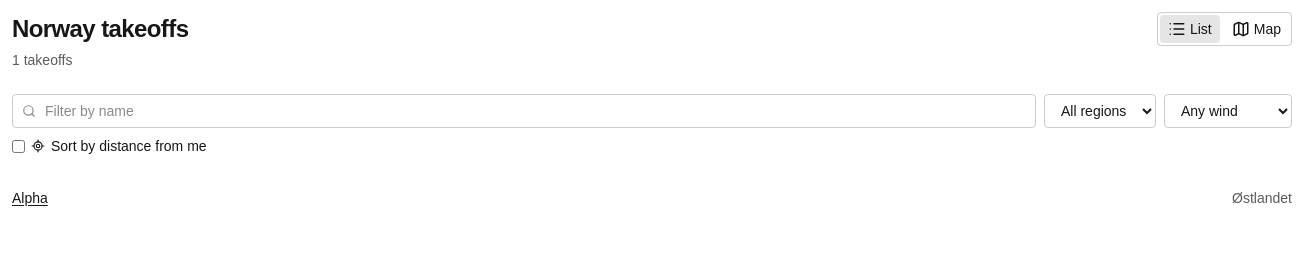
Scenario: TakeoffDirectory — input-driven filtering › blames the actual cause, not an untyped query, when a selected region has zero takeoffs
The image size is (1304, 267).
Check: the link "Alpha" is shown, box [12,188,48,208]
Select "Vestlandet" in the dropdown named "region": point(1100, 111) [1044,94,1156,128]
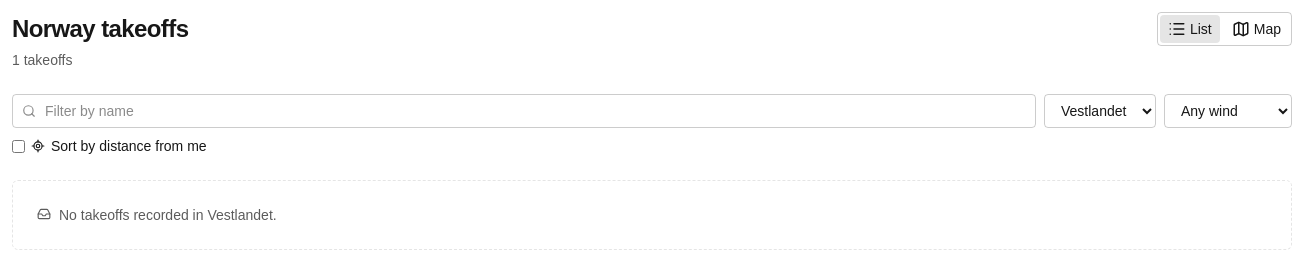
Check: the text "No takeoffs recorded in Vestlandet." is shown, box [59,205,277,225]
